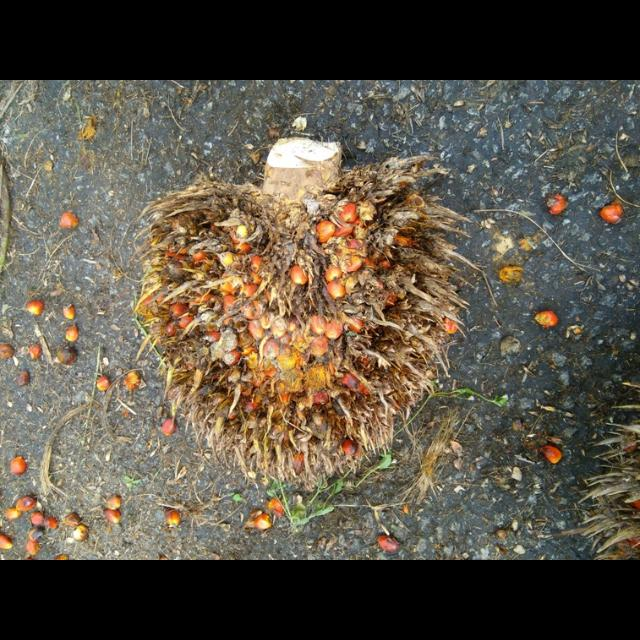Overripe: (140, 163, 477, 493)
